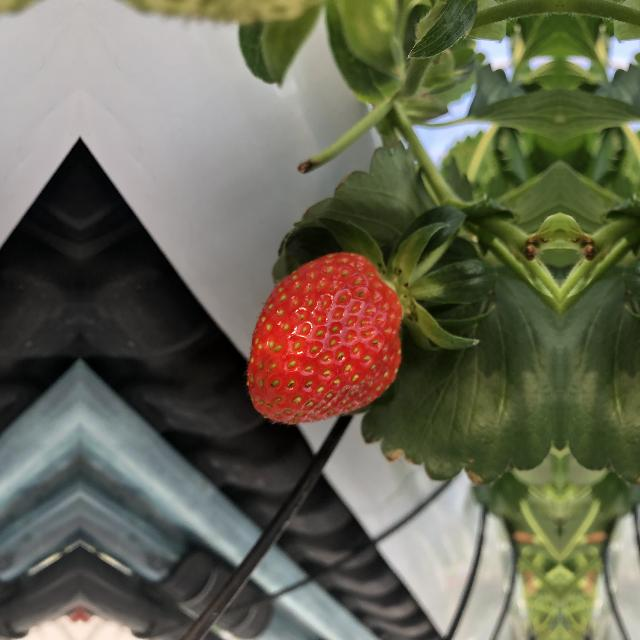Health_100: (238, 246, 418, 434)
